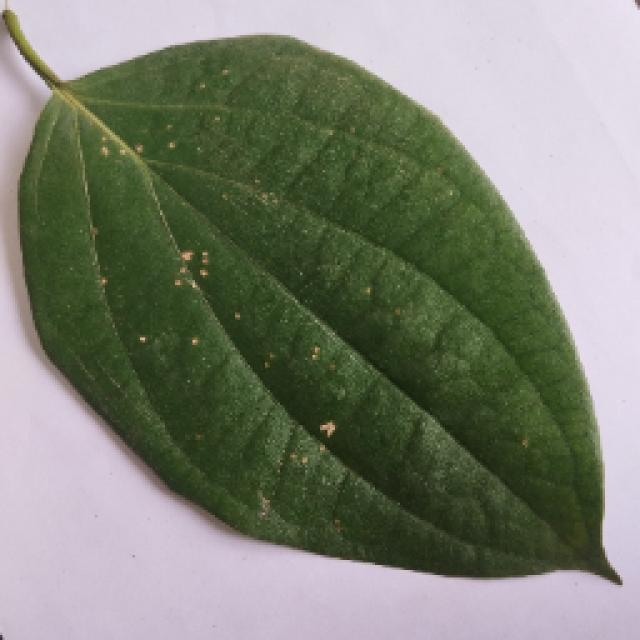pollu-disease: (5, 12, 610, 588)
